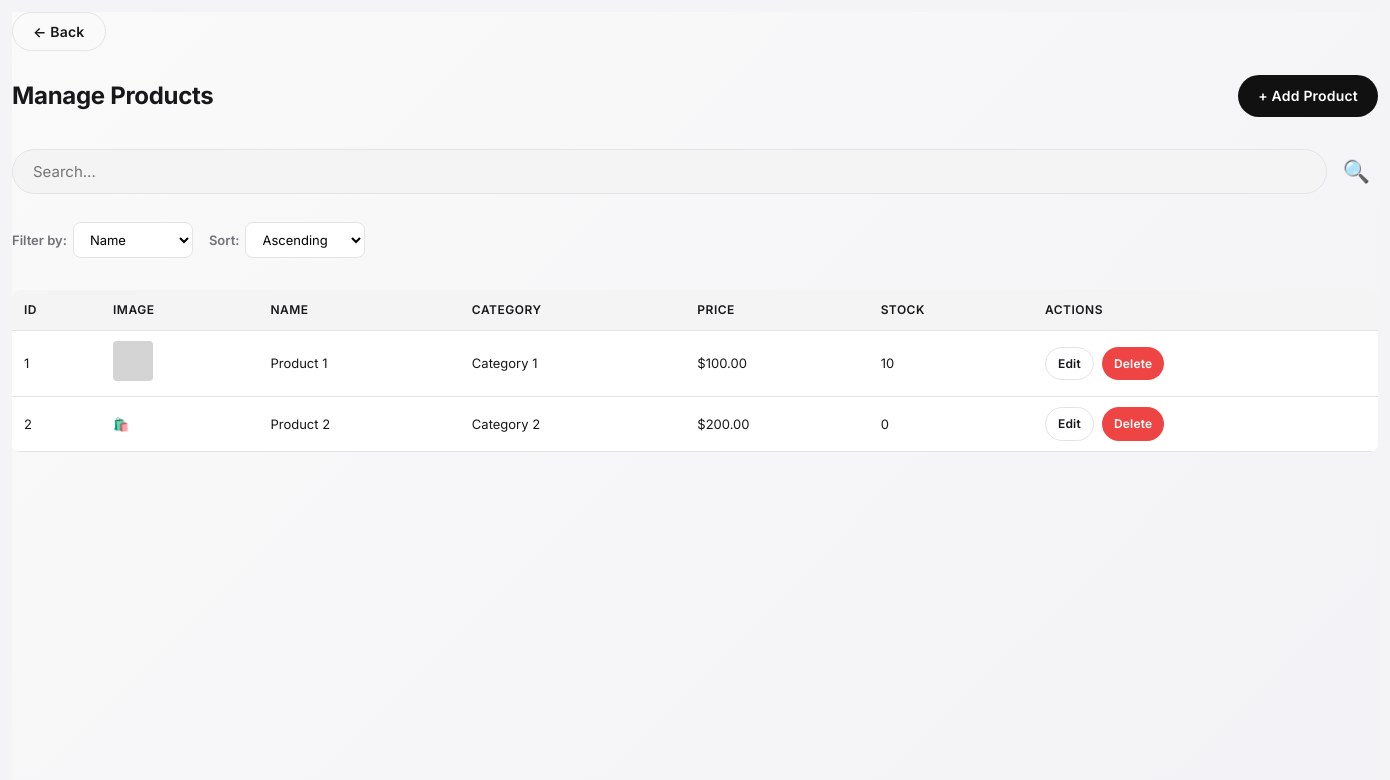
it: AdminProducts › Search › should show search history
Click the field with placeholder "Search...": point(669, 172) [12,149,1326,194]
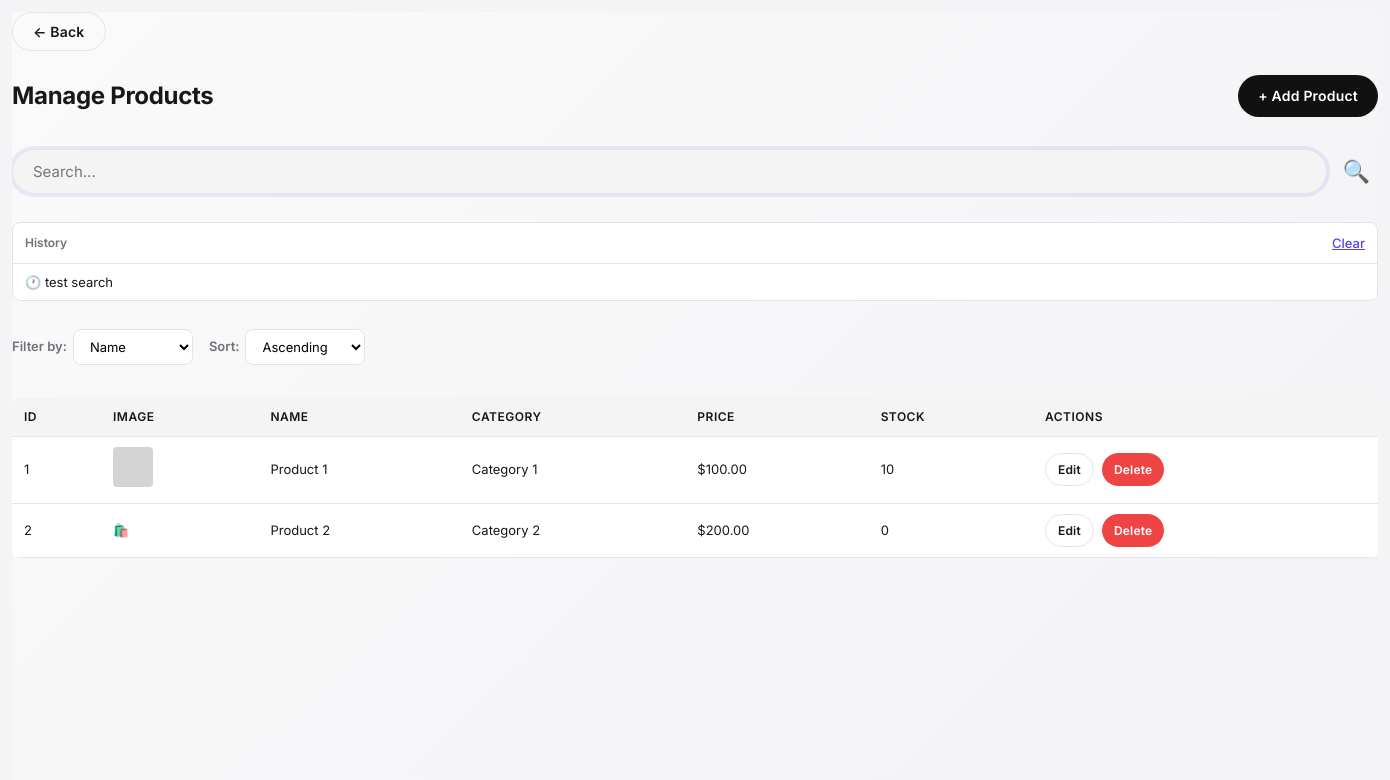
expect the button "🕐 test search" is shown: met, box [13,264,1377,300]
